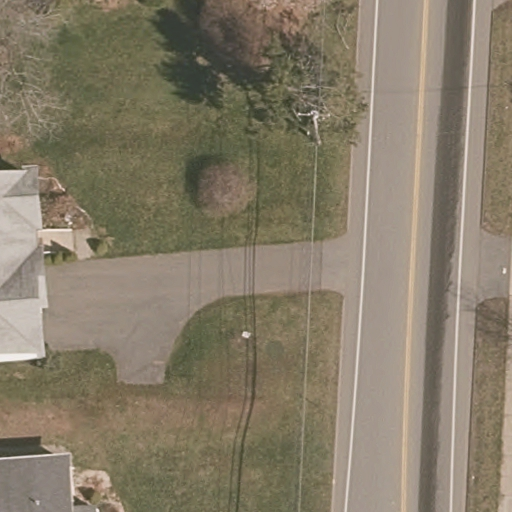DT: (287, 98, 339, 154)
